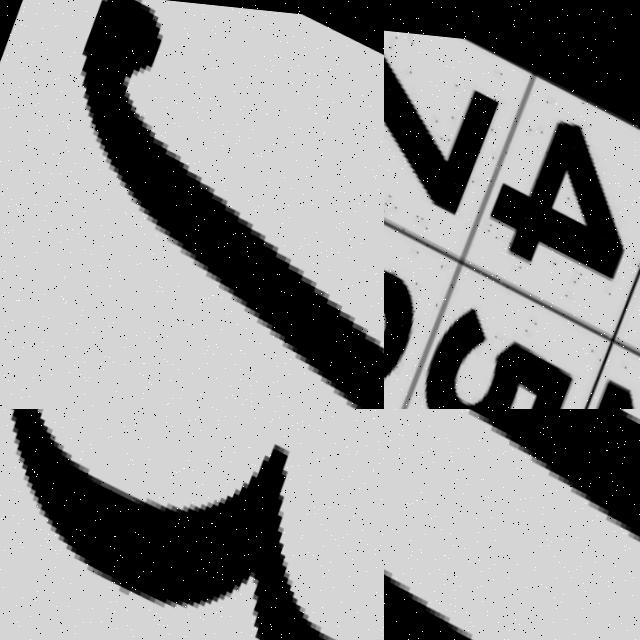3: (0, 409, 384, 640)
4: (469, 78, 640, 298)
5: (396, 284, 581, 409)
7: (384, 21, 509, 214)
8: (384, 208, 433, 406)
J: (0, 0, 384, 409)
U: (384, 409, 640, 640)
